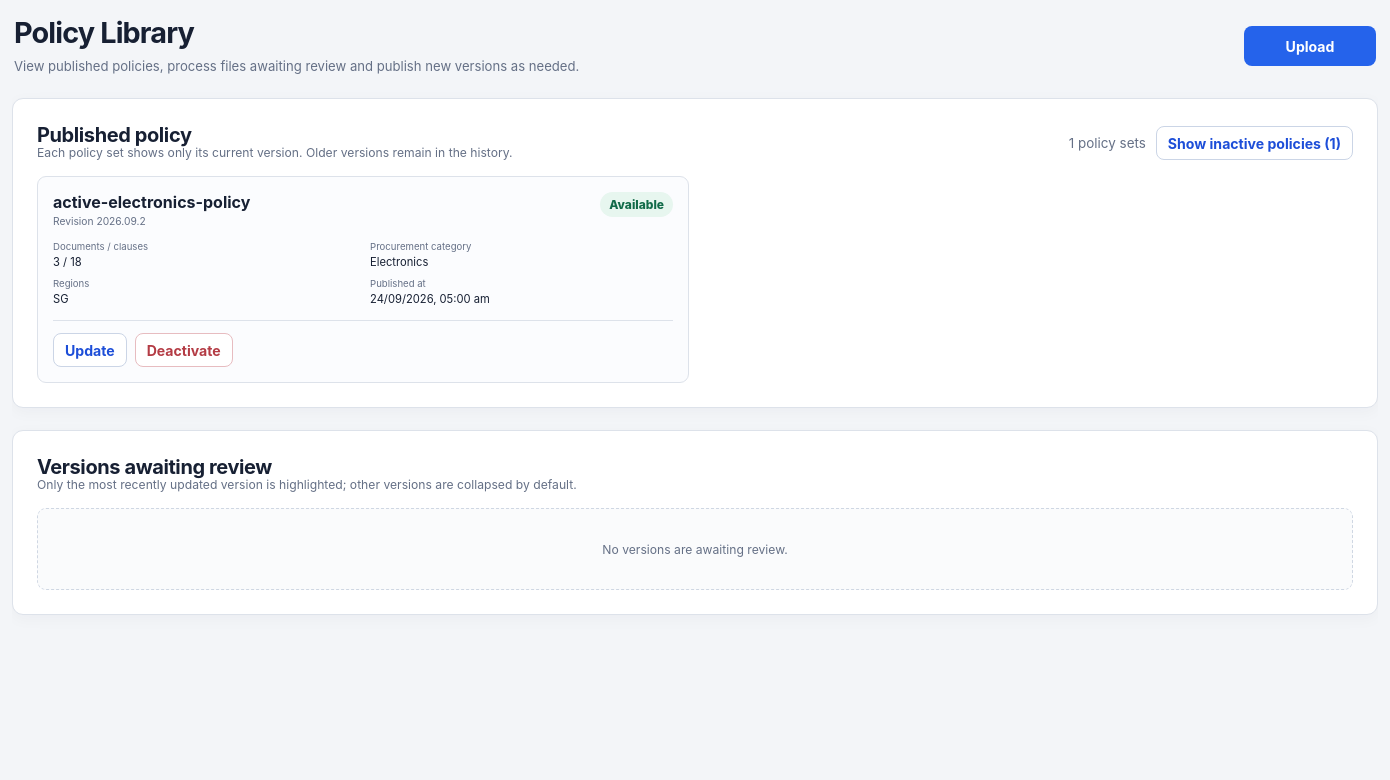
Test case: frontend and backend version consistency › inactive policy sets stay hidden until the user asks to show them
Expected: the text "active-electronics-policy" is shown, x1=53 y1=192 x2=250 y2=212
Expected: the text "inactive-electronics-policy" is not shown
Click the button "Show inactive policies (1)" at [1254, 144], box x1=1156 y1=126 x2=1353 y2=160
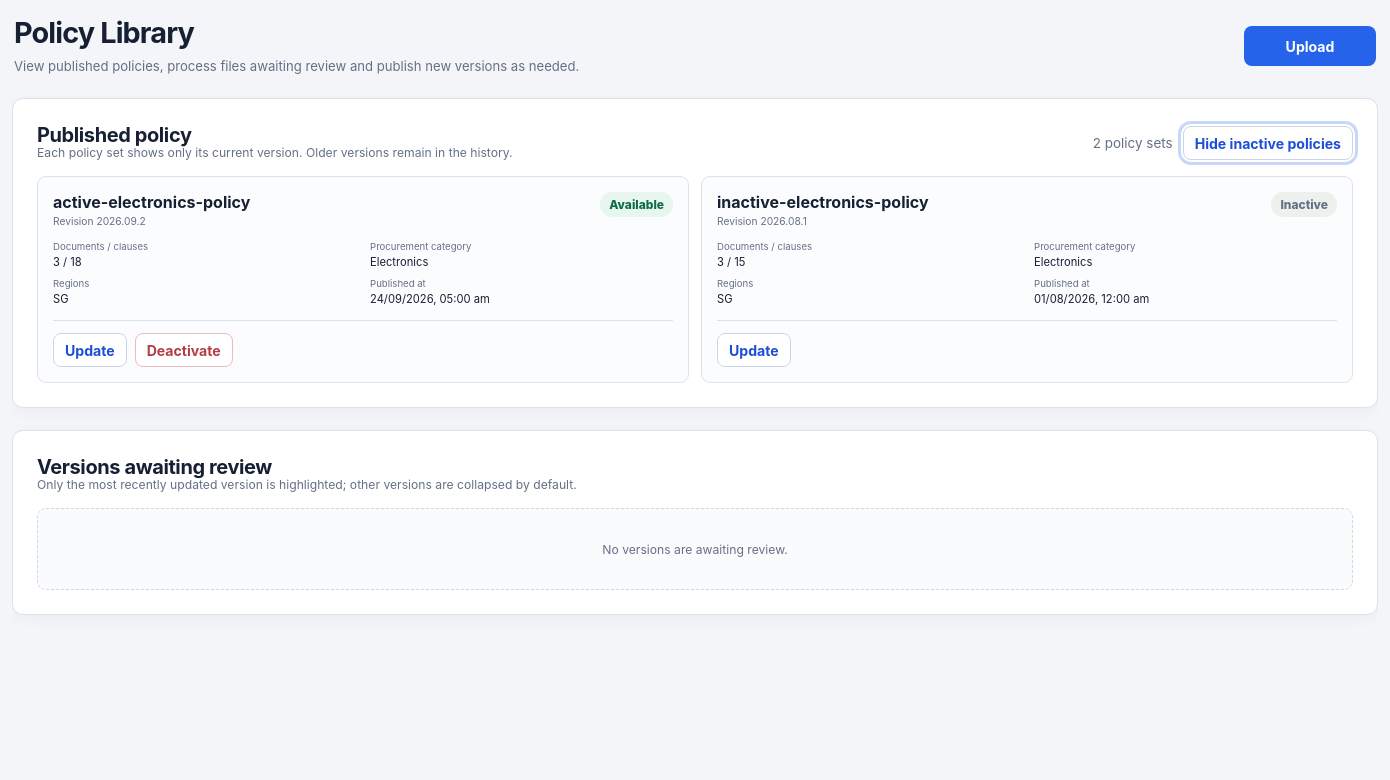
Expected: the text "inactive-electronics-policy" is shown, x1=717 y1=192 x2=929 y2=212
Click the button "Hide inactive policies" at [1268, 144], box x1=1183 y1=126 x2=1353 y2=160
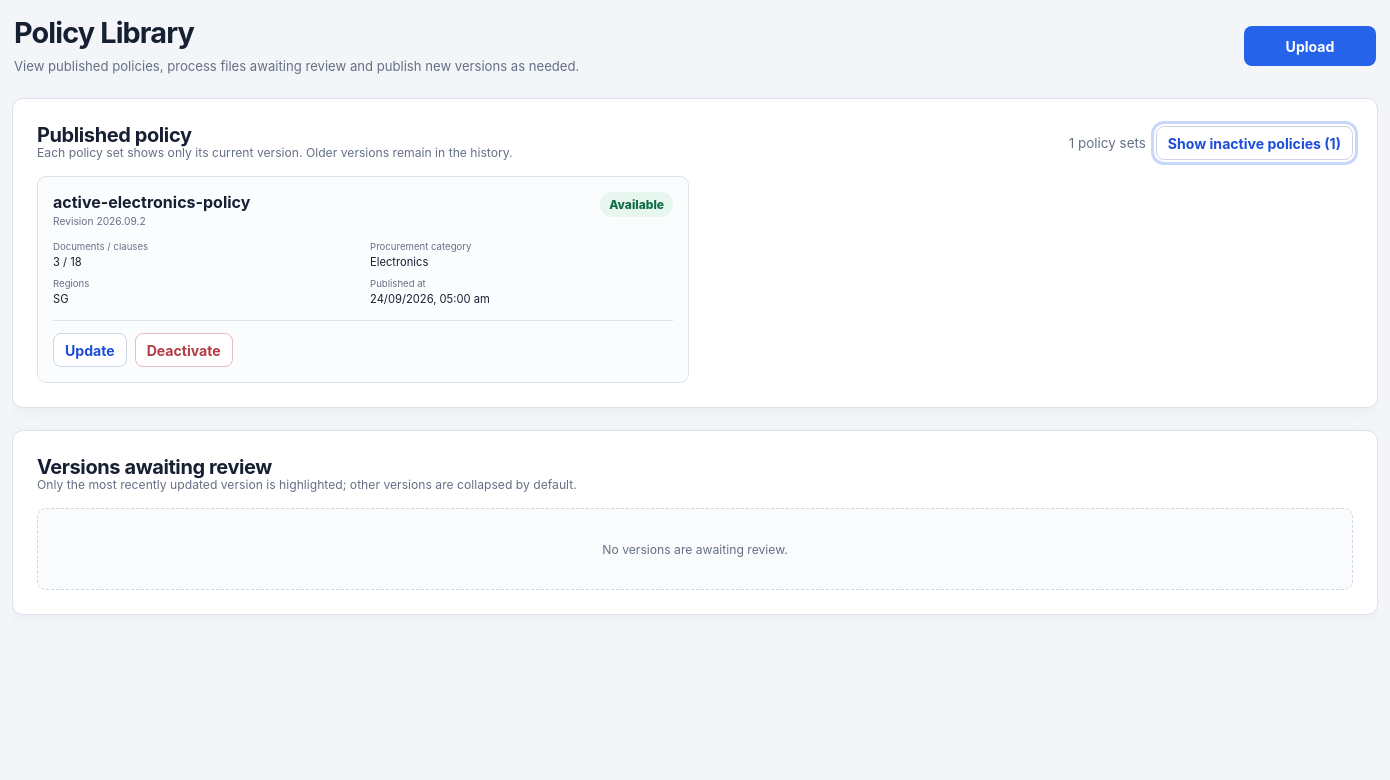
Expected: the text "inactive-electronics-policy" is gone
